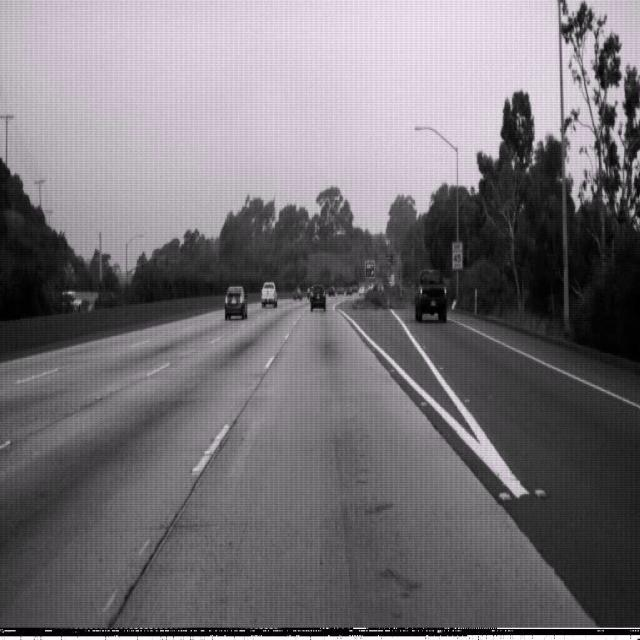speedLimit45: (452, 240, 462, 271)
